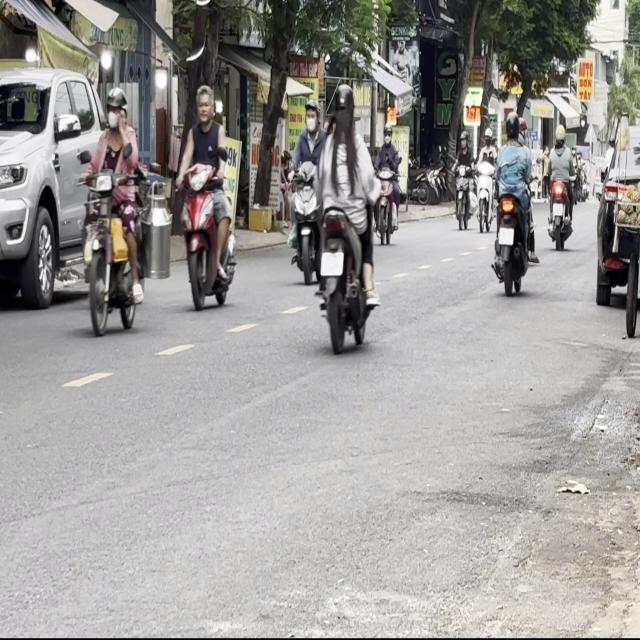helmet: (104, 85, 127, 130), (332, 82, 354, 126), (303, 96, 319, 132)
licenseplate: (316, 80, 381, 353), (80, 84, 146, 337), (175, 81, 238, 310)
motorcyclist: (194, 81, 213, 122)
nohelmet: (321, 252, 344, 274)
